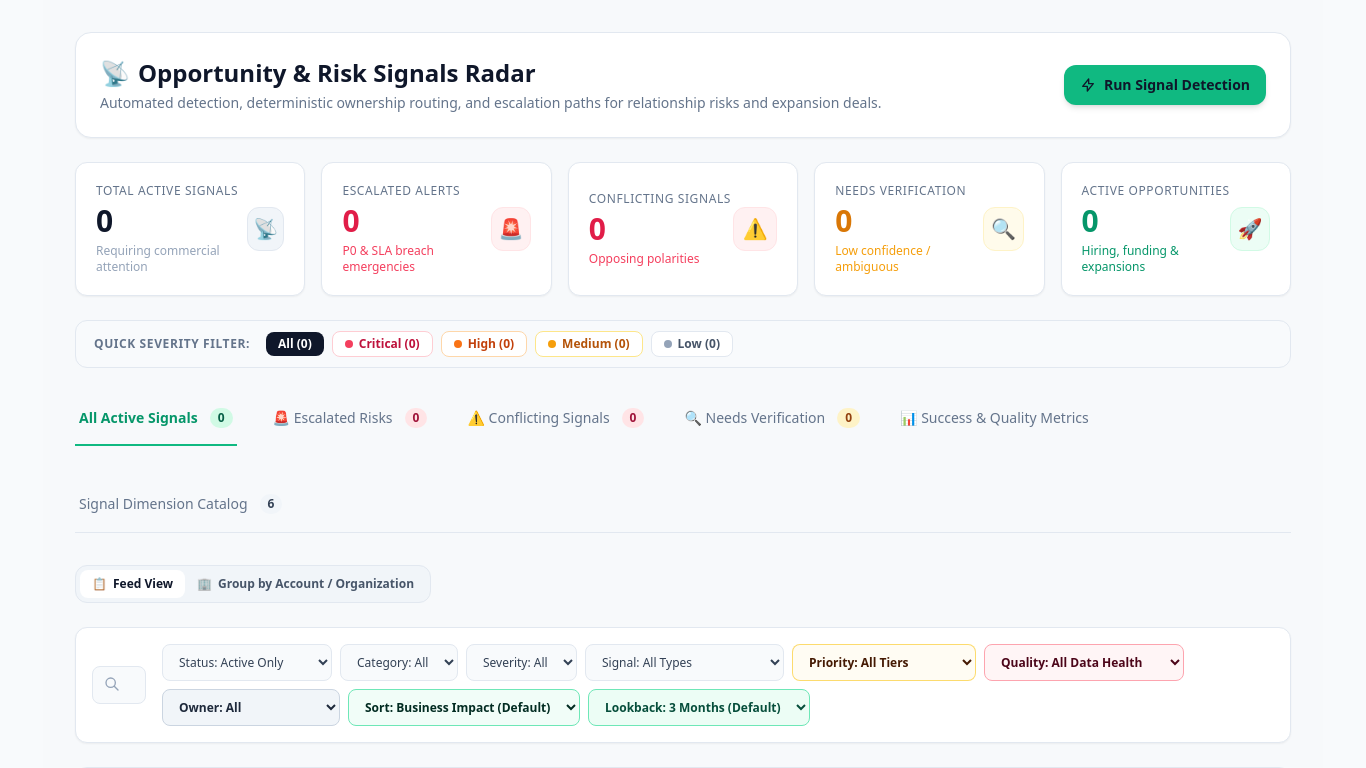
SignalsPage Component › filters to conflicting signals when selecting Conflicting Signals tab
What coordinates should you click on to do the following:
click the text "⚠️ Conflicting Signals"
I would click on:
 (539, 418)
Its box is [468, 408, 610, 428].
(page scrolled)
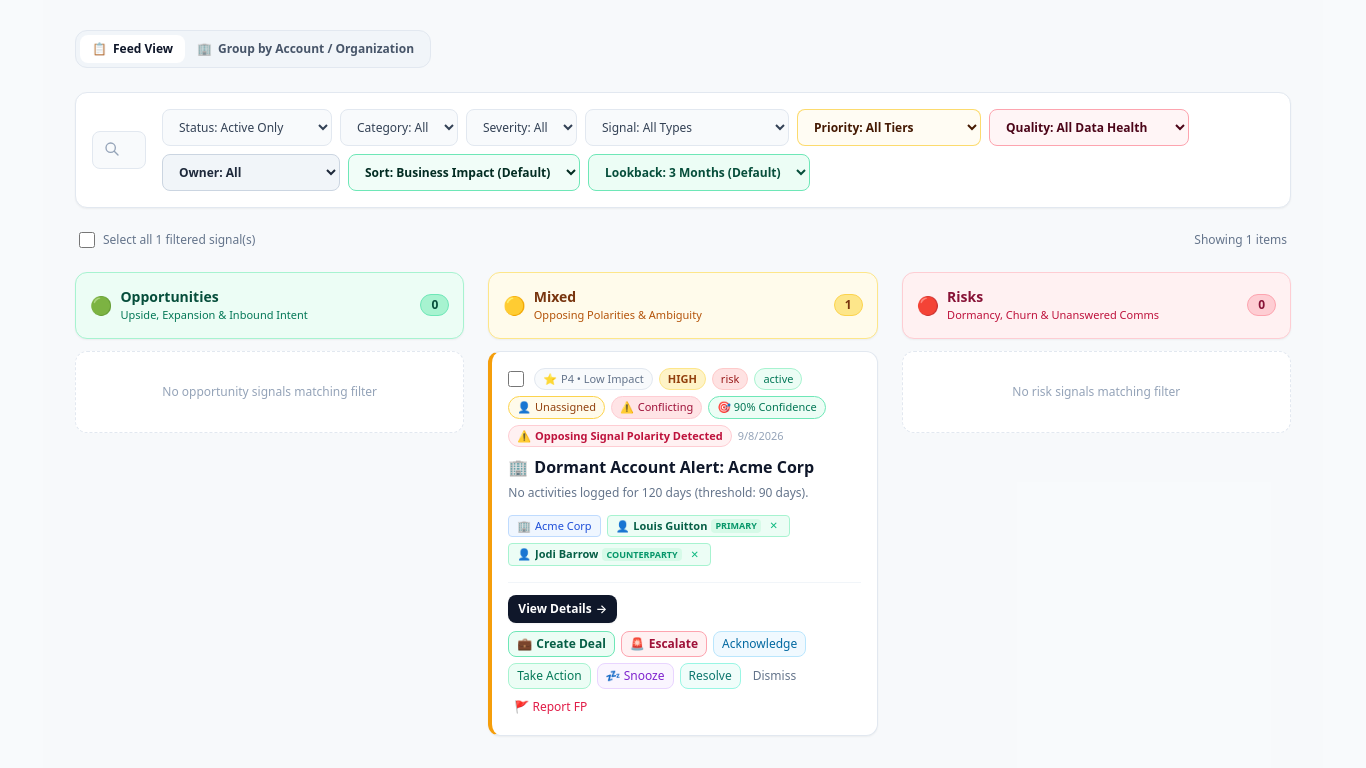
Expected: the text "Dormant Account Alert: Acme Corp" is shown, [534, 455, 814, 479]
